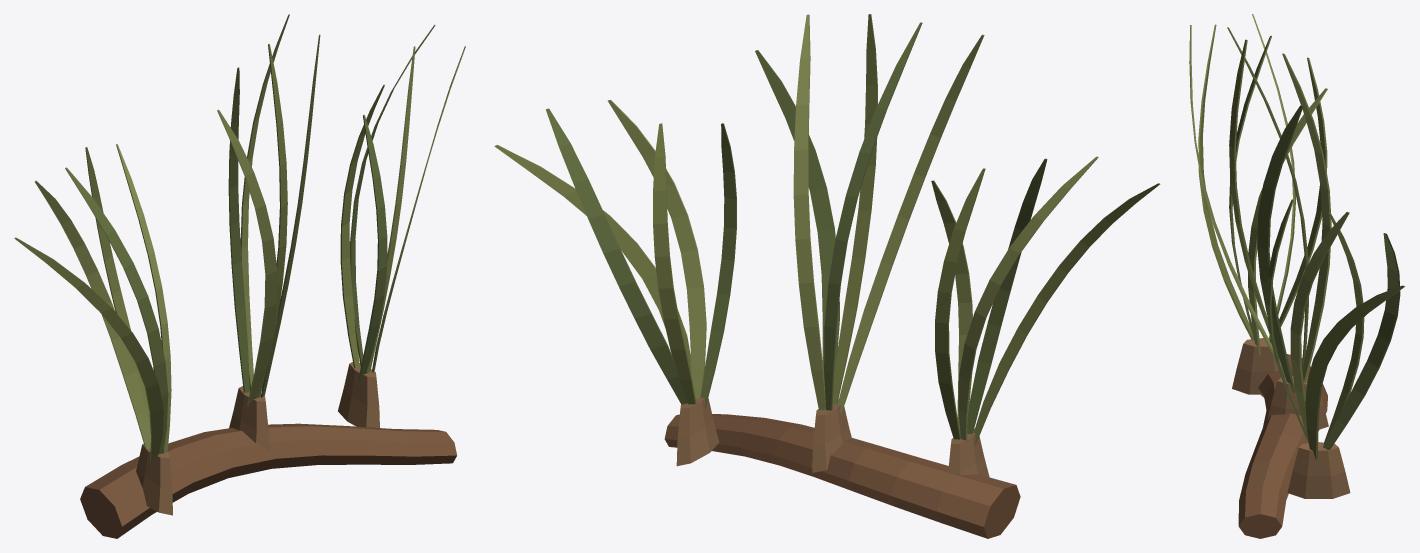
Rendered from phoenicopsis.glb.
3 views of the same model, side by side, from view 1: azimuth 30°, elevation 25°; view 2: azimuth 150°, elevation 25°; view 3: azimuth 270°, elevation 25° (orthographic). The views are drawn at different scales.
Visible parts, largest first — view 1: curved-detached-twig, shoot-2-strap-1, shoot-1-strap-1, shoot-1-strap-2, shoot-1-strap-3, shoot-2-strap-2, shoot-3-strap-1, shoot-3-strap-2, shoot-2-strap-3, short-shoot-3, shoot-1-strap-5, shoot-2-strap-4 (+7 smaller); view 2: curved-detached-twig, shoot-2-strap-4, shoot-3-strap-4, shoot-2-strap-1, shoot-2-strap-2, shoot-3-strap-3, shoot-2-strap-3, shoot-3-strap-2, shoot-1-strap-2, shoot-2-strap-5, shoot-1-strap-4, shoot-1-strap-1 (+7 smaller); view 3: curved-detached-twig, shoot-2-strap-5, shoot-3-strap-4, shoot-3-strap-5, short-shoot-3, shoot-2-strap-4, shoot-3-strap-3, shoot-2-strap-3, shoot-1-strap-1, short-shoot-1, shoot-3-strap-2, shoot-1-strap-4 (+7 smaller).
Part boxes in pixels (bbox=[...]): curved-detached-twig: bbox=[80, 423, 456, 538]; shoot-2-strap-1: bbox=[217, 109, 277, 406]; shoot-1-strap-1: bbox=[14, 237, 163, 462]; shoot-1-strap-2: bbox=[34, 180, 150, 448]; shoot-1-strap-3: bbox=[65, 167, 168, 453]; shoot-2-strap-2: bbox=[228, 67, 249, 392]; shoot-3-strap-1: bbox=[358, 115, 387, 381]; shoot-3-strap-2: bbox=[340, 84, 384, 368]; shoot-2-strap-3: bbox=[256, 44, 287, 398]; short-shoot-3: bbox=[338, 362, 379, 427]; shoot-1-strap-5: bbox=[116, 144, 171, 453]; shoot-2-strap-4: bbox=[240, 14, 289, 390]; curved-detached-twig: bbox=[664, 414, 1020, 538]; shoot-2-strap-4: bbox=[793, 14, 825, 410]; shoot-3-strap-4: bbox=[546, 108, 687, 404]; shoot-2-strap-1: bbox=[837, 34, 984, 414]; shoot-2-strap-2: bbox=[824, 22, 922, 410]; shoot-3-strap-3: bbox=[608, 100, 706, 398]; shoot-2-strap-3: bbox=[832, 14, 877, 404]; shoot-3-strap-2: bbox=[653, 123, 696, 404]; shoot-1-strap-2: bbox=[958, 156, 1098, 440]; shoot-2-strap-5: bbox=[755, 50, 839, 381]; shoot-1-strap-4: bbox=[935, 168, 985, 439]; shoot-1-strap-1: bbox=[973, 183, 1160, 444]; curved-detached-twig: bbox=[1238, 354, 1327, 538]; shoot-2-strap-5: bbox=[1257, 105, 1303, 392]; shoot-3-strap-4: bbox=[1323, 233, 1400, 449]; shoot-3-strap-5: bbox=[1305, 285, 1405, 459]; short-shoot-3: bbox=[1287, 442, 1350, 498]; shoot-2-strap-4: bbox=[1282, 53, 1331, 382]; shoot-3-strap-3: bbox=[1290, 211, 1349, 444]; shoot-2-strap-3: bbox=[1229, 39, 1280, 362]; shoot-1-strap-1: bbox=[1198, 24, 1253, 340]; short-shoot-1: bbox=[1232, 338, 1278, 394]; shoot-3-strap-2: bbox=[1323, 212, 1364, 443]; shoot-1-strap-4: bbox=[1270, 57, 1327, 343].
Size of the model in its own units: 0.32 by 0.26 by 0.12.
